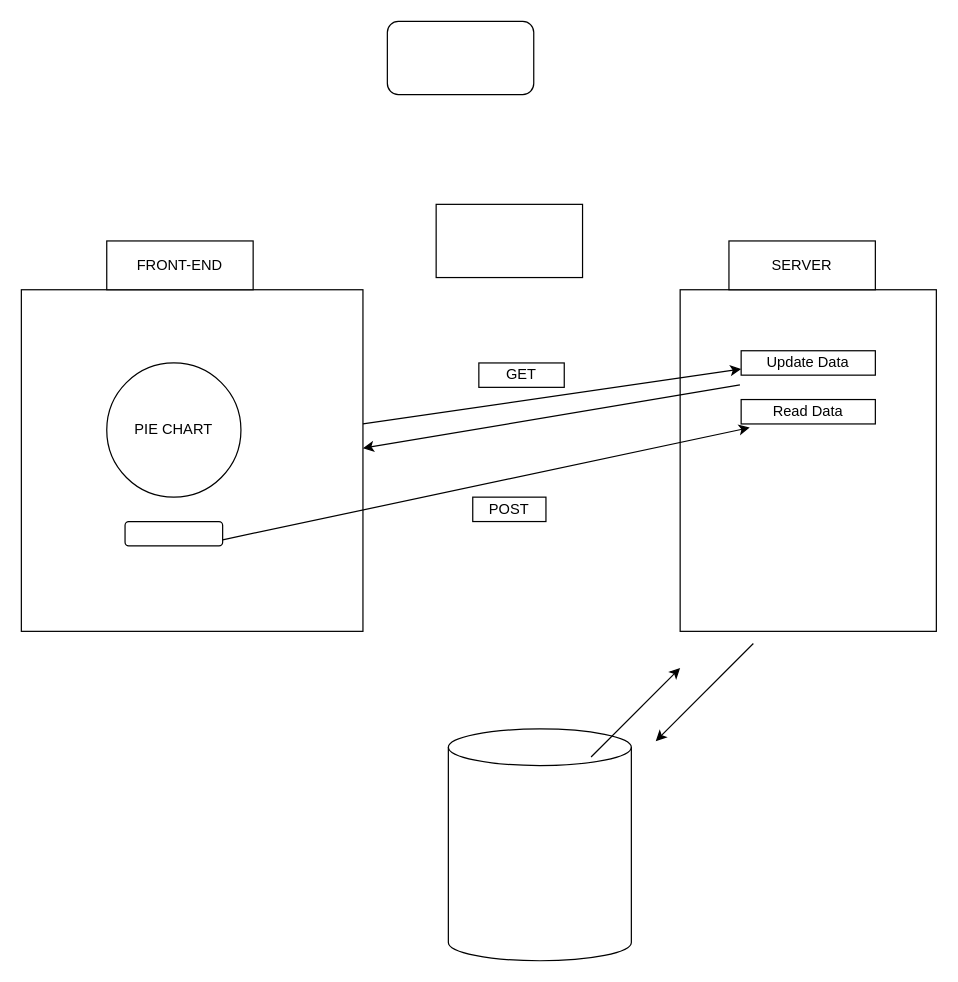
This 958x982 diagram has some shape labels left out. Here are the shapes that lost their labels. From the top down, the centre of each, then its label:
(x=460, y=57): SNOBIRD v1
(x=509, y=240): HTTP
(x=173, y=533): Get New Data
(x=539, y=844): DATABASE
